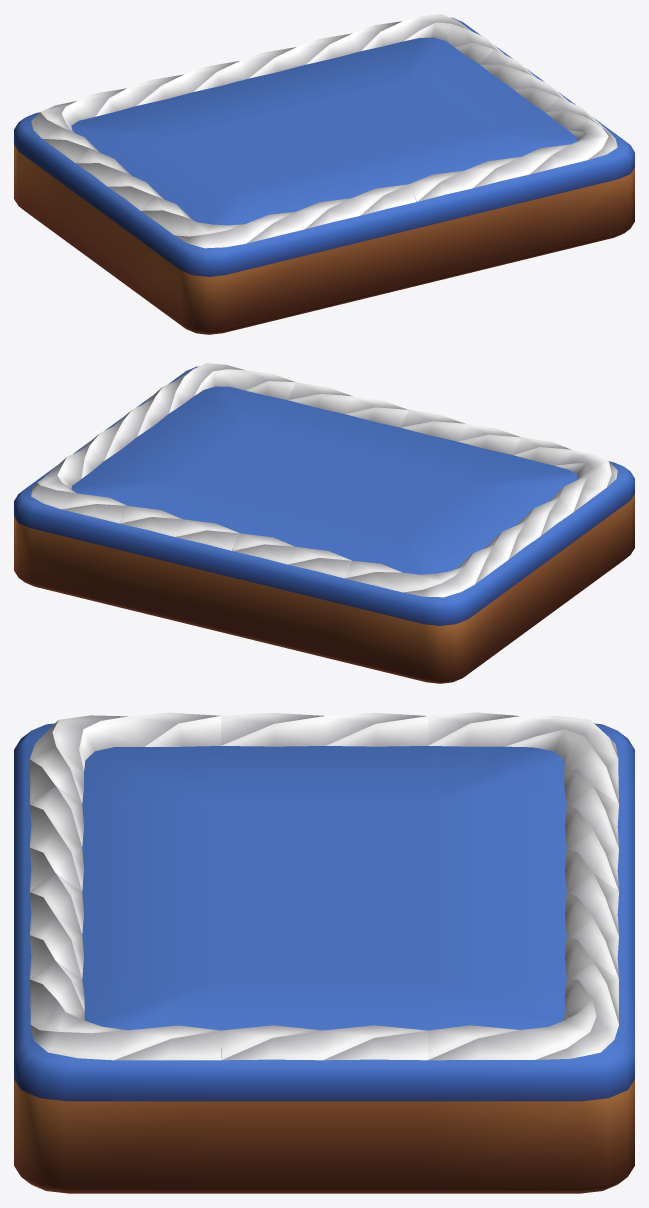
Rendered from m_SheetCake06.fbx.
3 views of the same model, one above another, from view 1: azimuth 30°, elevation 25°; view 2: azimuth 150°, elevation 25°; view 3: azimuth 270°, elevation 25° (orthographic). The views are drawn at different scales.
Parts seen in each view (by area): view 1: m_SheetCake06; view 2: m_SheetCake06; view 3: m_SheetCake06.
Part boxes in pixels (x1,y1,x2,y2): m_SheetCake06: [14, 14, 634, 334]; m_SheetCake06: [14, 363, 634, 683]; m_SheetCake06: [14, 712, 634, 1193].
Bounding box in the file's own units: 40 × 8 × 30.
